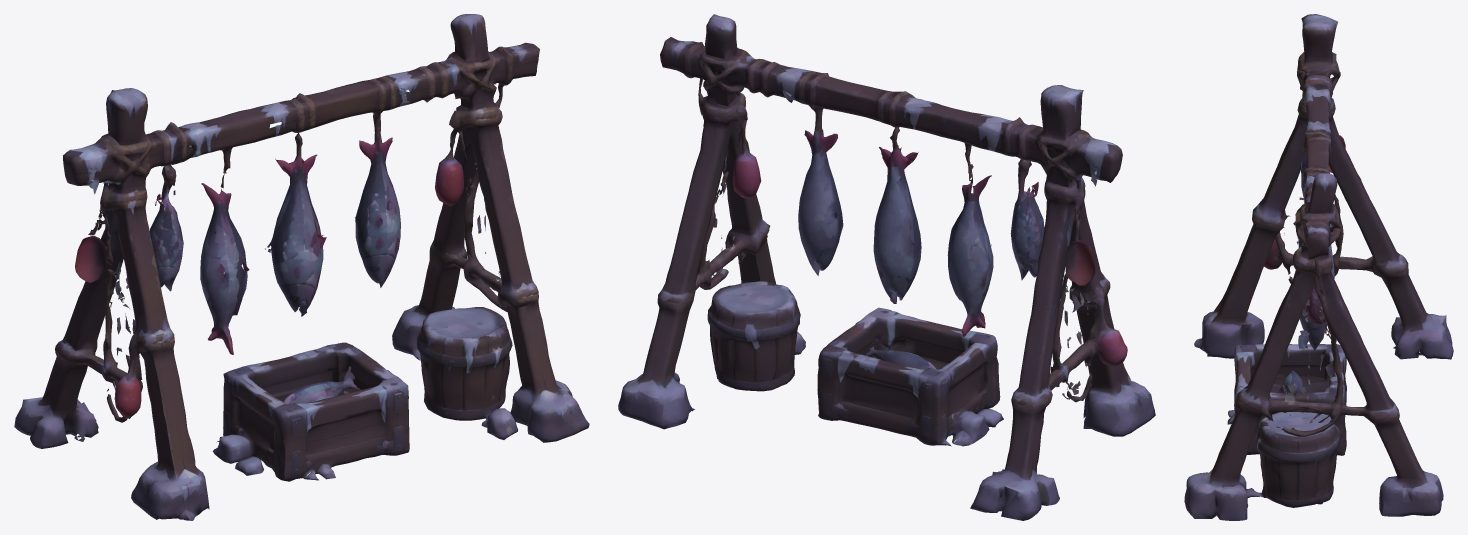
File: fish_rack.glb
3 views of the same model, side by side, from view 1: azimuth 30°, elevation 25°; view 2: azimuth 150°, elevation 25°; view 3: azimuth 270°, elevation 25° (orthographic). The views are drawn at different scales.
Parts seen in each view (by area): view 1: tripo_node_35a56553; view 2: tripo_node_35a56553; view 3: tripo_node_35a56553.
Part boxes in pixels (<box>): tripo_node_35a56553: <box>14,14,589,520</box>; tripo_node_35a56553: <box>618,14,1155,520</box>; tripo_node_35a56553: <box>1184,14,1453,520</box>.
Size of the model in its own units: 99.86 by 78.81 by 56.99.
1 material, 1 textured.
